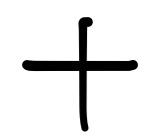plus: (23, 16, 138, 131)
